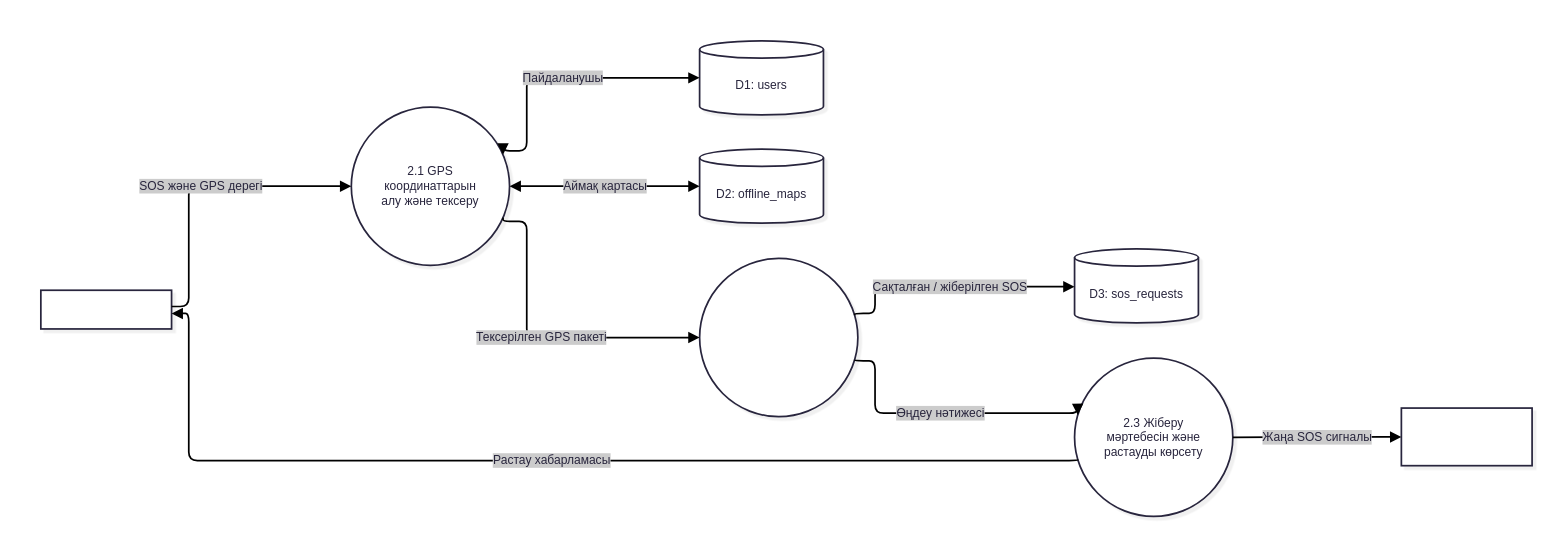
The diagram is 1551 pixels wide and 535 high, and some of its shapes have lost their labels. The centre of each missing label's shape, as x and y in pixels:
2.2 SOS хабарламасын жіберу немесе офлайн кезекке сақтау: [780,339]
Турист: [107,311]
Құтқарушы / Диспетчер: [1468,438]
